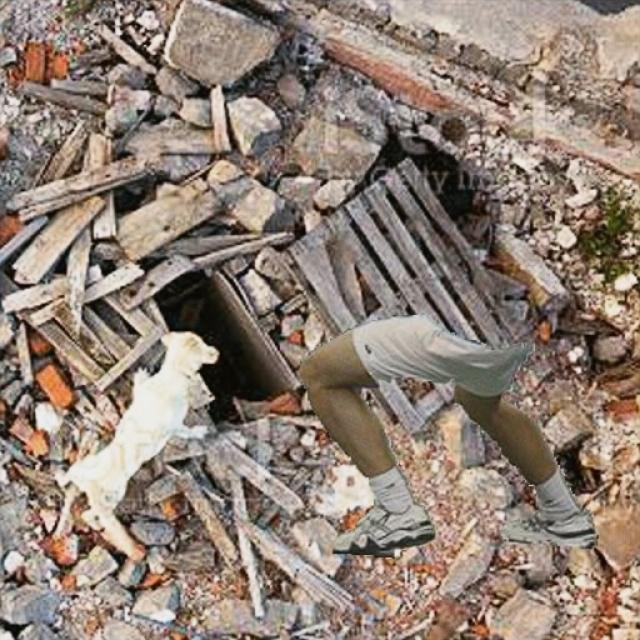Person in Rubble: (300, 314, 598, 558)
